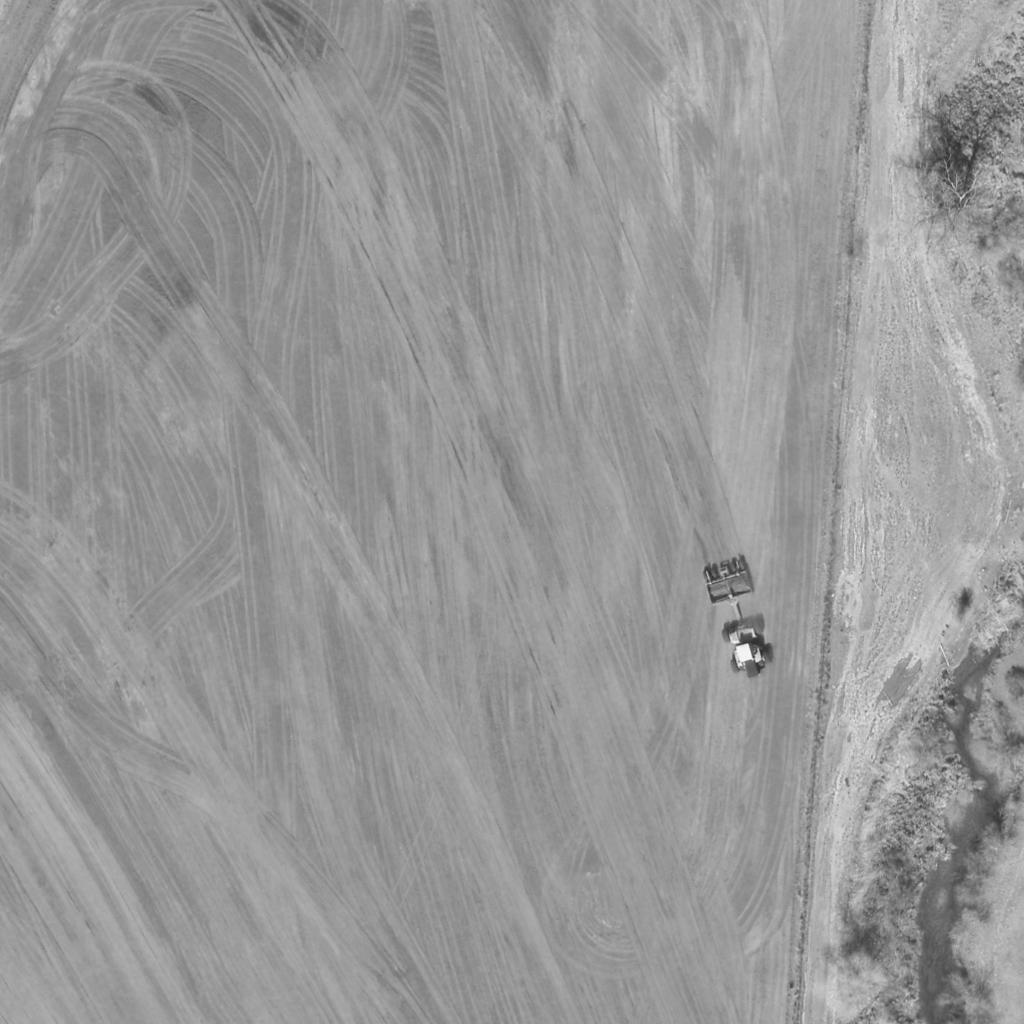vehicle: (721, 621, 775, 681)
